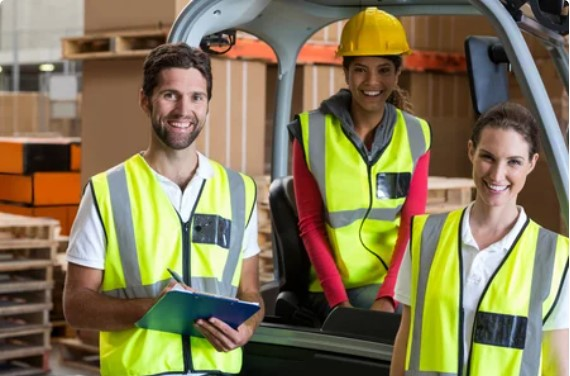worker: (87, 46, 255, 374), (414, 103, 569, 376), (300, 8, 427, 290)
